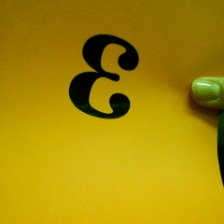orange3: (63, 31, 145, 120)
